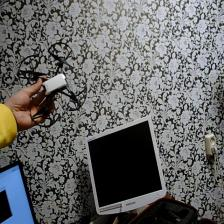drone: (15, 37, 88, 130)
